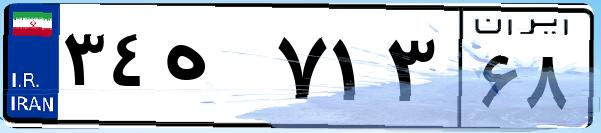1: (330, 28, 385, 110)
3: (385, 28, 445, 110), (57, 26, 110, 100)
4: (110, 28, 158, 98)
6: (475, 38, 525, 113)
7: (270, 28, 330, 110)
8: (525, 38, 570, 115)
ه: (158, 20, 270, 120)
